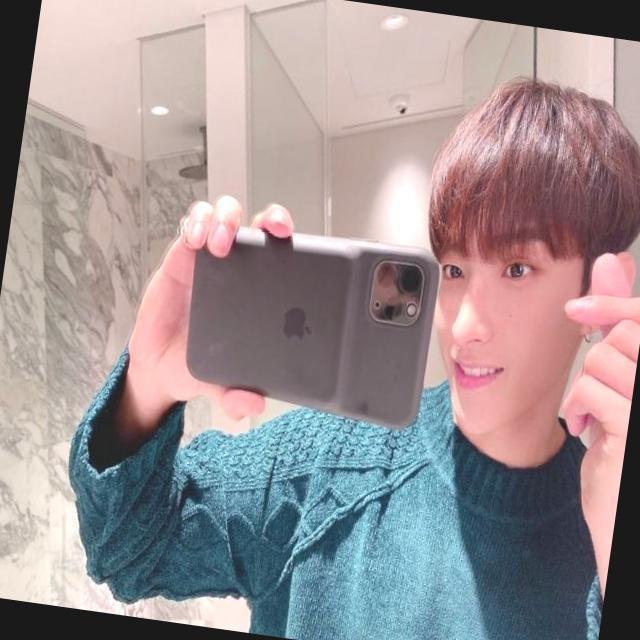lens: (369, 258, 427, 331)
phone: (173, 213, 447, 433)
